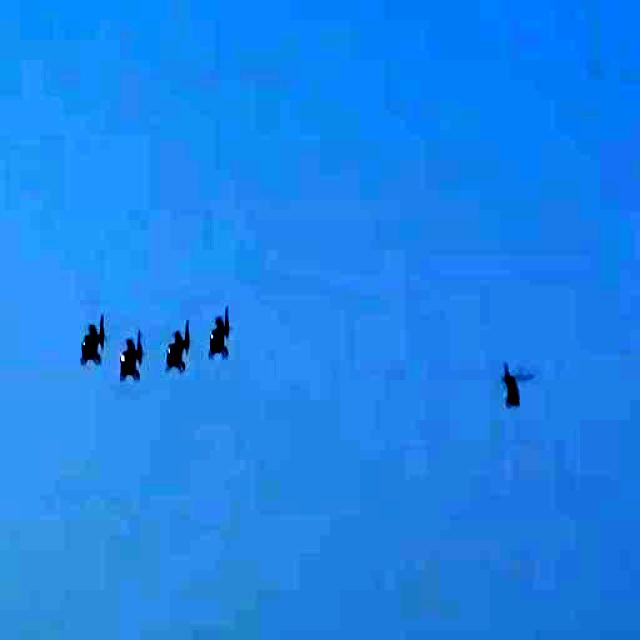drone: (494, 360, 528, 421), (158, 316, 189, 381), (76, 309, 105, 371), (205, 302, 231, 358), (119, 331, 141, 388)
